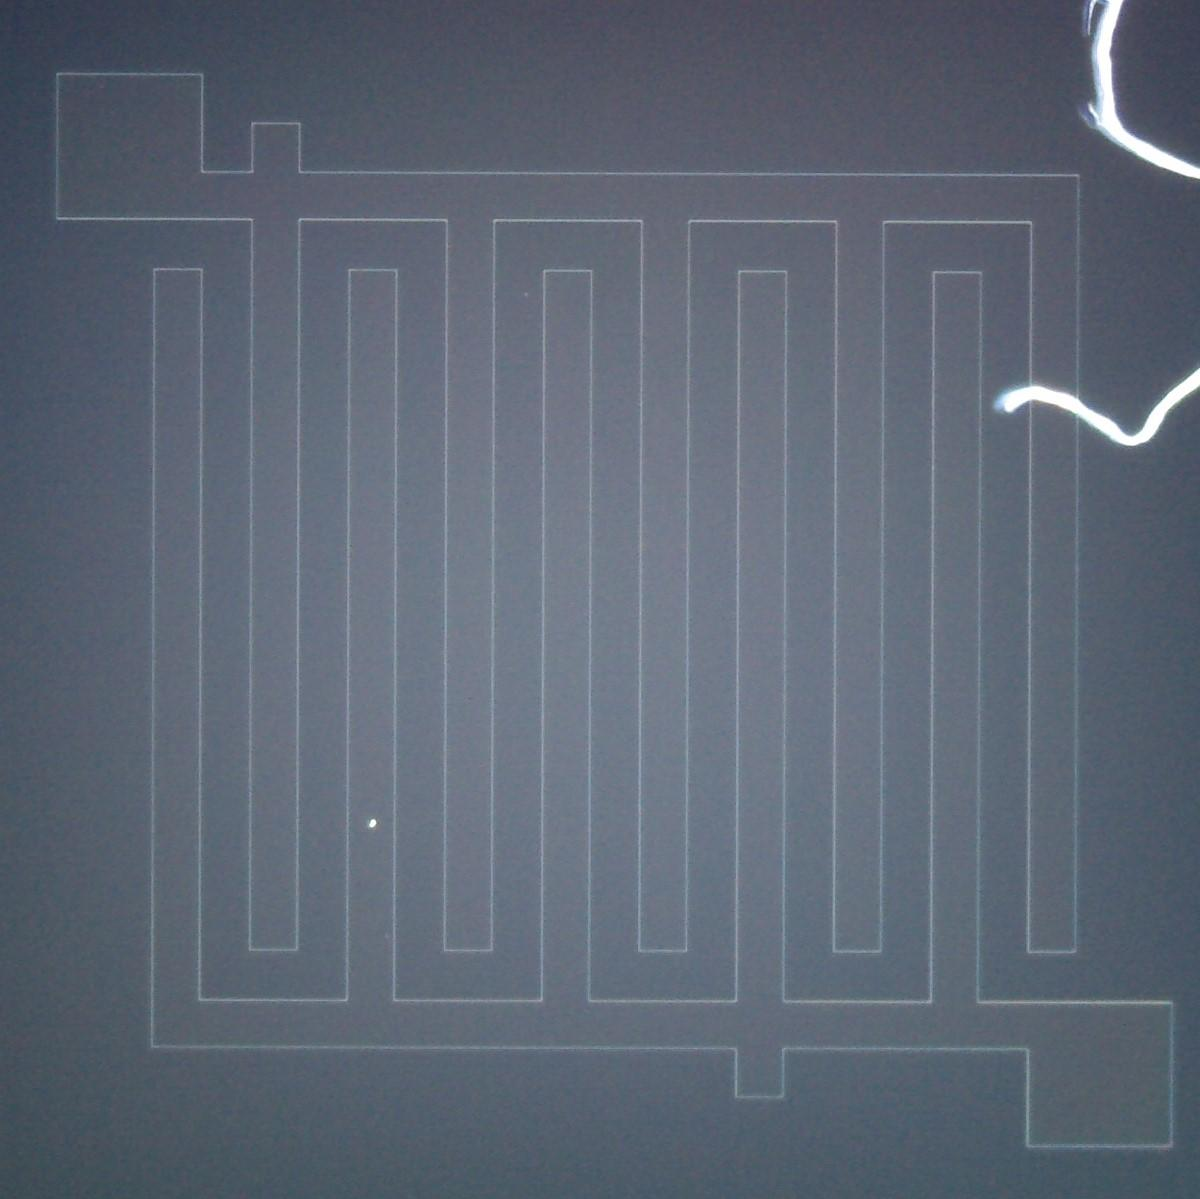B_point: (367, 817, 379, 831)
foreign: (1073, 0, 1200, 184), (990, 361, 1200, 450)
project: (229, 110, 323, 197), (716, 1032, 804, 1113)
s_point: (520, 290, 531, 301), (381, 931, 392, 941)
